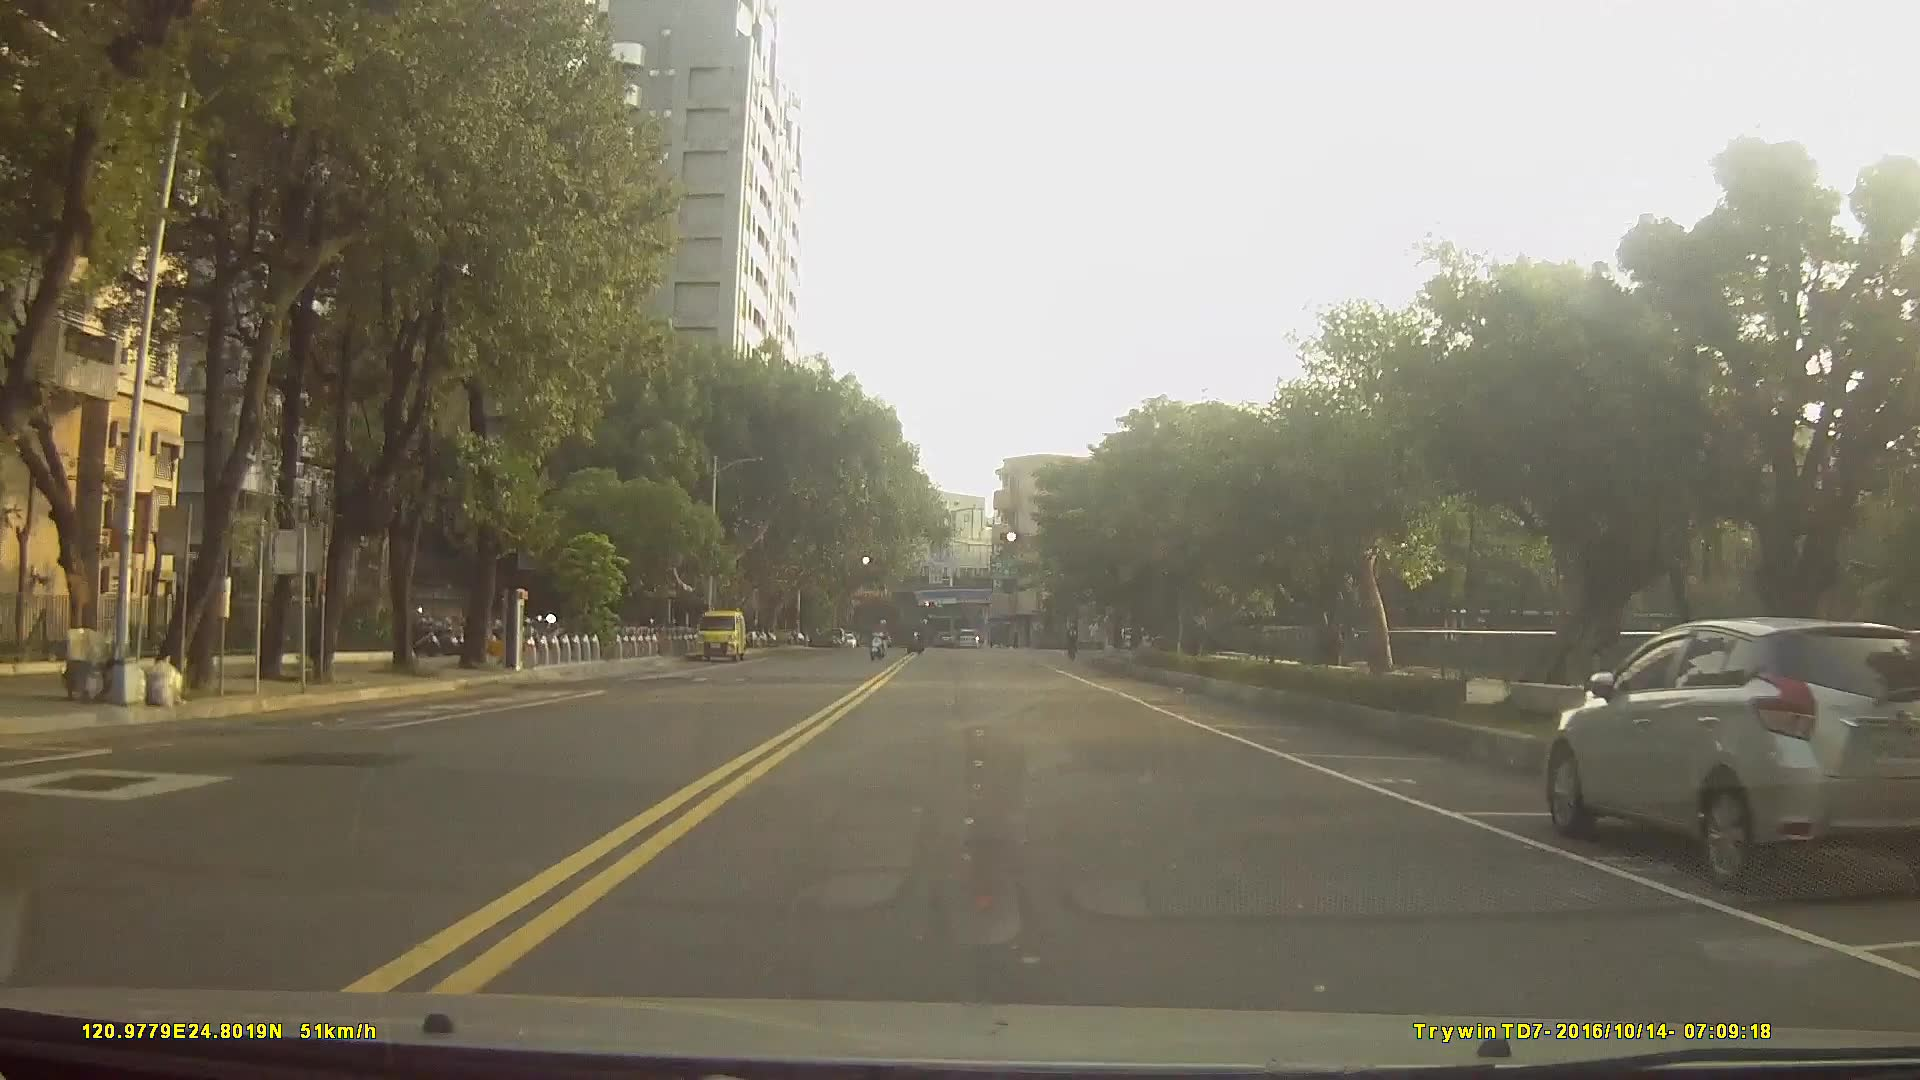pedestrian: (1086, 615, 1106, 656)
rider: (867, 616, 894, 662), (906, 618, 931, 657)
vehicle: (1546, 615, 1920, 887), (952, 626, 979, 650)
